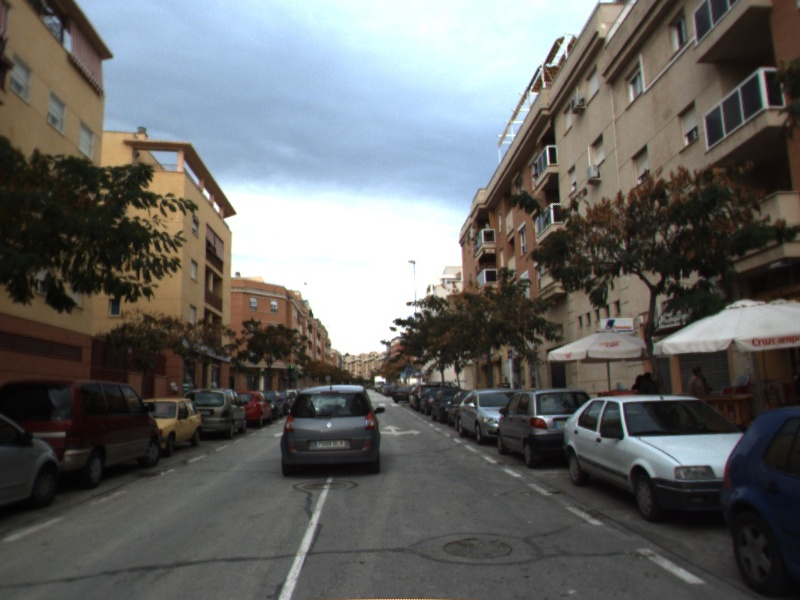STRAIGHT_LEFT_RIGHT: (379, 423, 424, 438)
